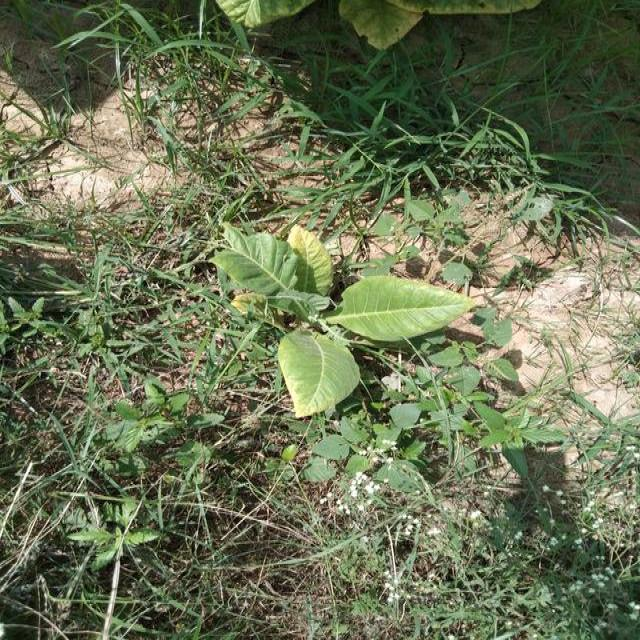crop: (218, 226, 468, 402), (223, 0, 544, 44)
